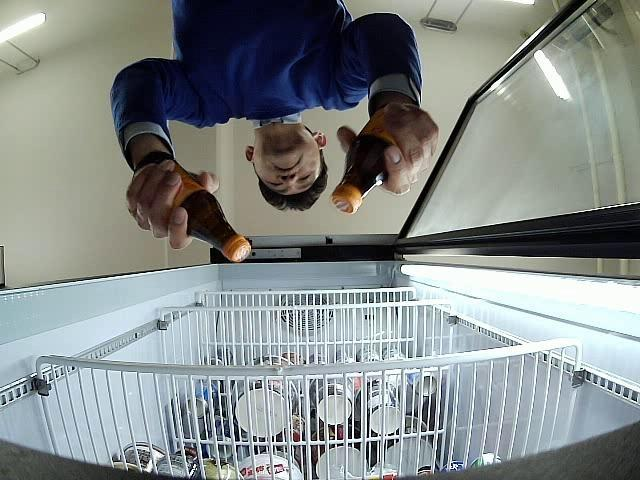17_vita500: (332, 106, 400, 214), (175, 174, 250, 264)
